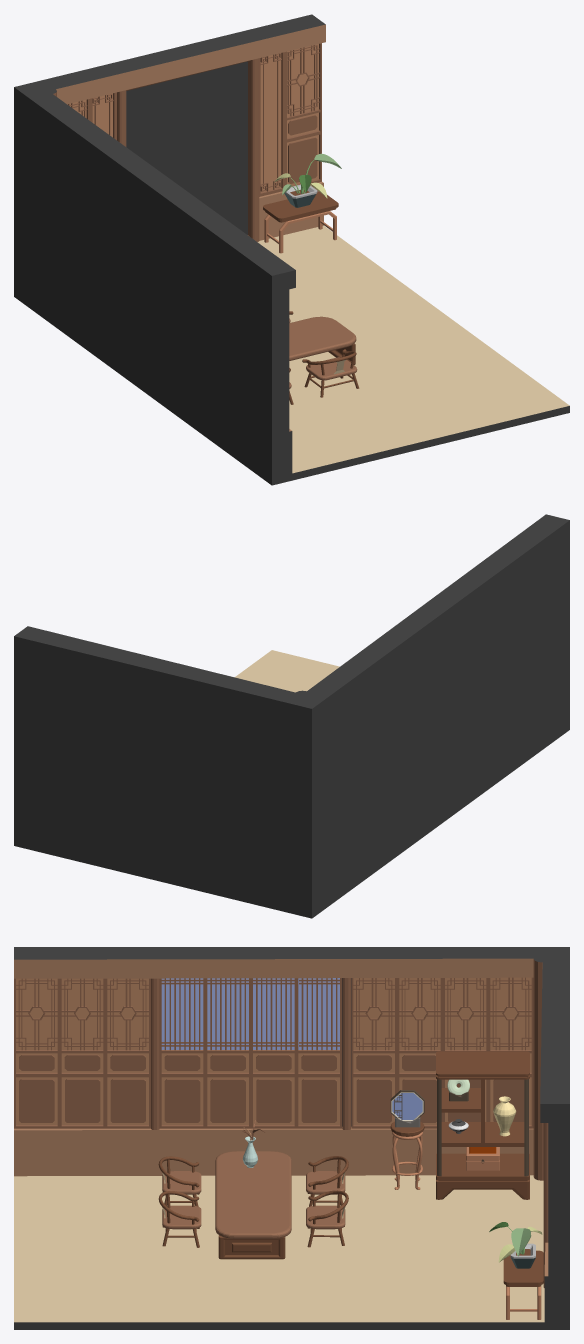
The model's file is main.fbx.
The picture shows the model from 3 angles, top to bottom: view 1: azimuth 30°, elevation 25°; view 2: azimuth 150°, elevation 25°; view 3: azimuth 270°, elevation 25°; orthographic projection. The views are drawn at different scales.
Parts seen in each view (by area): view 1: room, wall, table_1, table_2, chair_2, plant_1; view 2: room, wall; view 3: wall, room, window, shelf_1, table_1, table_2, chair_2, chair_3, chair_4, chair_1, plant_1, decoration_5 (+3 smaller).
Part boxes in pixels (x1,y1,x2,y2): room: (14,14,569,485); wall: (36,20,325,474); table_1: (289,316,356,364); table_2: (263,191,338,253); chair_2: (302,349,359,397); plant_1: (274,153,341,207); room: (14,517,569,918); wall: (22,514,555,699); wall: (14,954,552,1322); room: (14,947,569,1329); window: (159,978,341,1128); shelf_1: (436,1051,529,1199); table_1: (215,1151,291,1259); table_2: (503,1250,543,1319); chair_2: (158,1191,201,1247); chair_3: (306,1190,348,1247); chair_4: (306,1156,348,1206); chair_1: (158,1156,201,1206); plant_1: (489,1222,542,1268); decoration_5: (390,1090,424,1127).
Bounding box in the file's own units: 2232 × 1470 × 3276.
